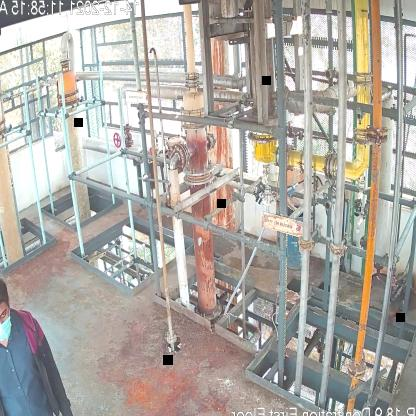no_goggles: (0, 308, 12, 326)
